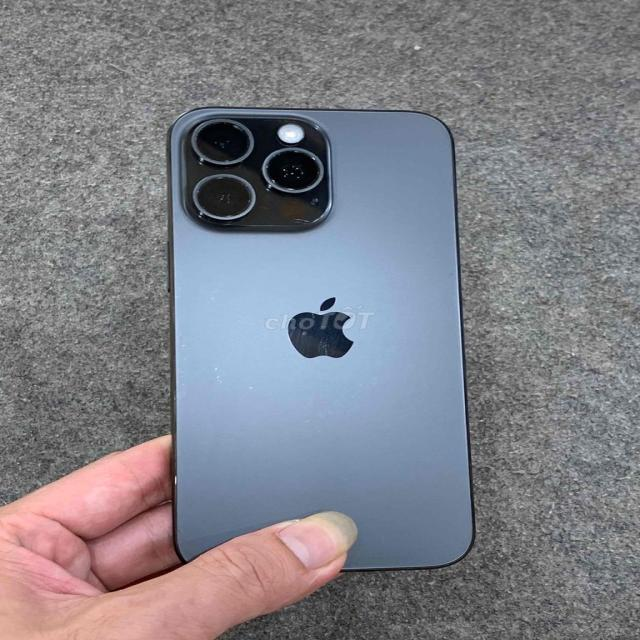gen_15: (147, 93, 492, 597)
physical_damage: (288, 215, 311, 222)
scratch: (206, 281, 226, 301), (314, 339, 331, 357), (175, 379, 187, 402), (213, 364, 223, 386), (172, 284, 184, 301), (171, 473, 178, 485), (246, 384, 255, 390), (179, 343, 187, 348)
